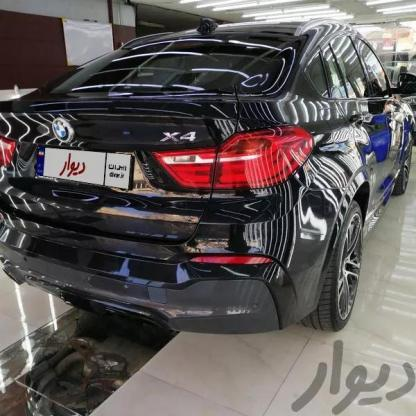Car: (0, 13, 416, 352)
